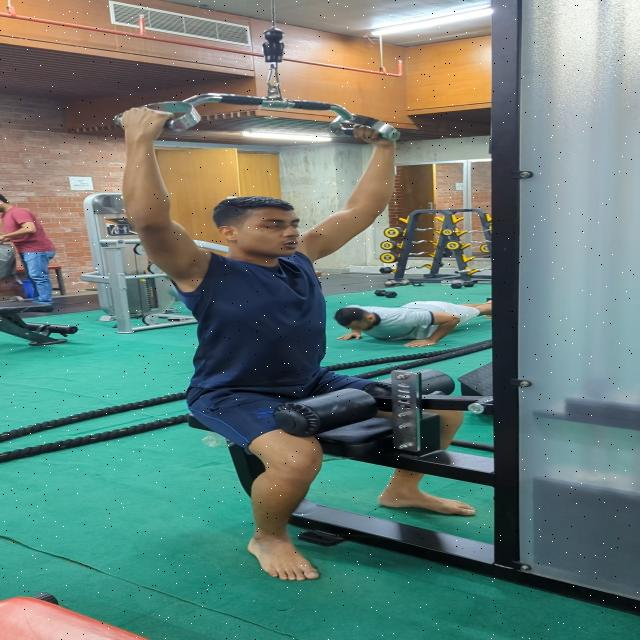Normal_LatPulldown: (107, 105, 483, 588)
